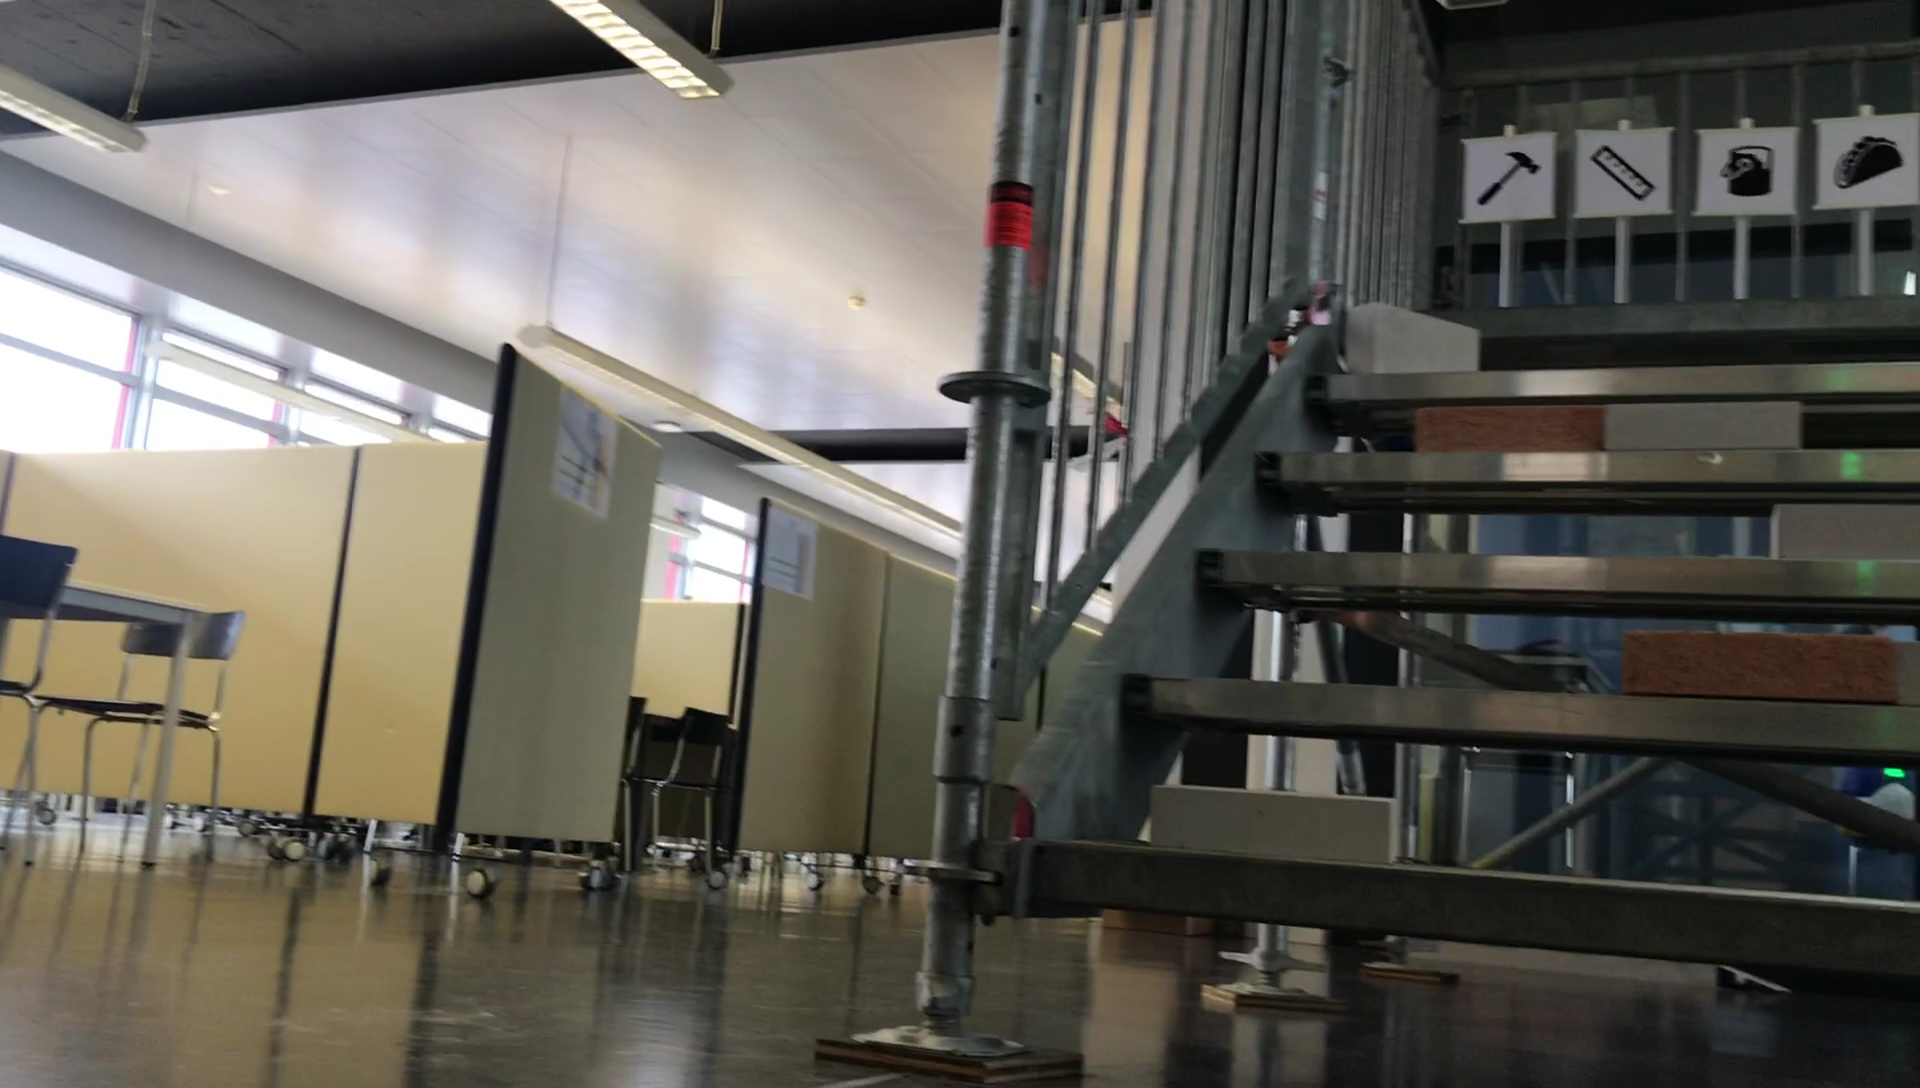brick: (1142, 786, 1404, 856), (1618, 634, 1898, 699), (1605, 396, 1801, 455), (1338, 305, 1486, 378), (1768, 502, 1920, 564), (1415, 408, 1601, 454)
bucket: (1718, 142, 1780, 199)
edge: (1029, 837, 1909, 980), (1139, 673, 1913, 744), (1185, 545, 1904, 597), (1328, 289, 1913, 335), (1259, 450, 1920, 491), (1302, 368, 1919, 400)
hammer: (1472, 148, 1534, 208)
ruler: (1586, 138, 1658, 208)
stairs: (934, 0, 1920, 1048)
steps: (992, 284, 1920, 956)
taco: (1837, 129, 1907, 186)
